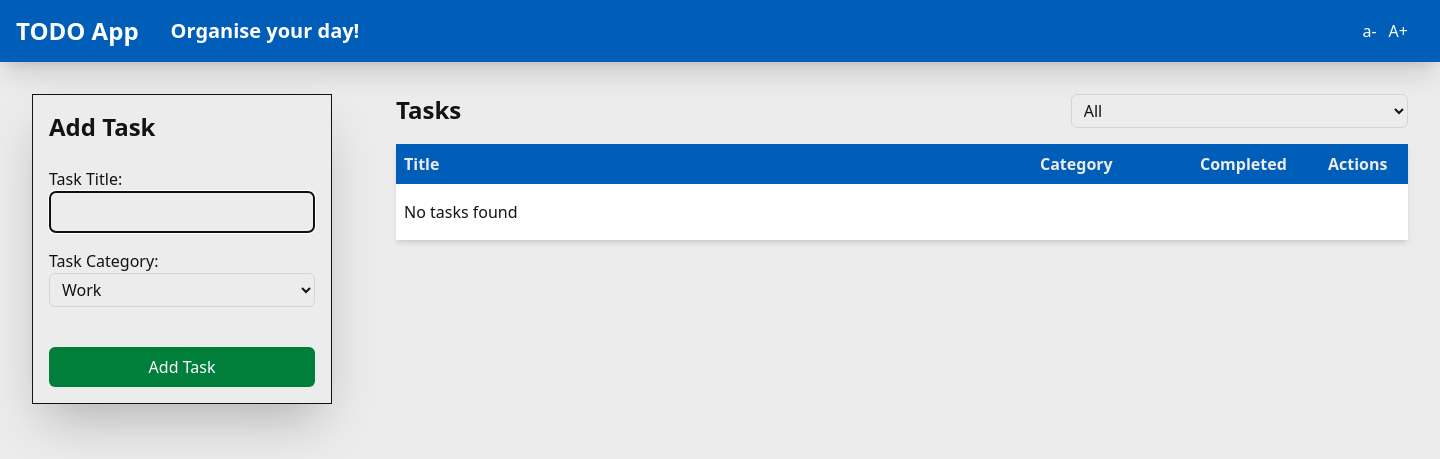
Test: App › adds a task and saves to localStorage
This screenshot has width=1440, height=459.
Type "adds a task" into the field with test id "add-task-component-description" at x=182, y=212, box [49,191,315,233]
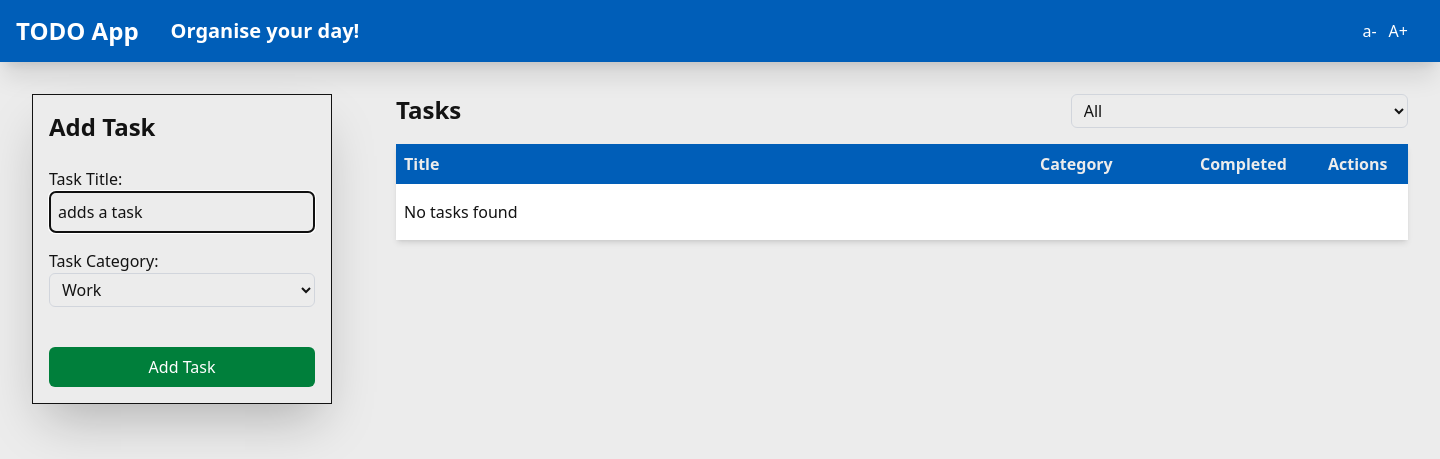
Select "Personal" in the dropdown with test id "add-task-component-category-select" at x=182, y=290, box [49,273,315,307]
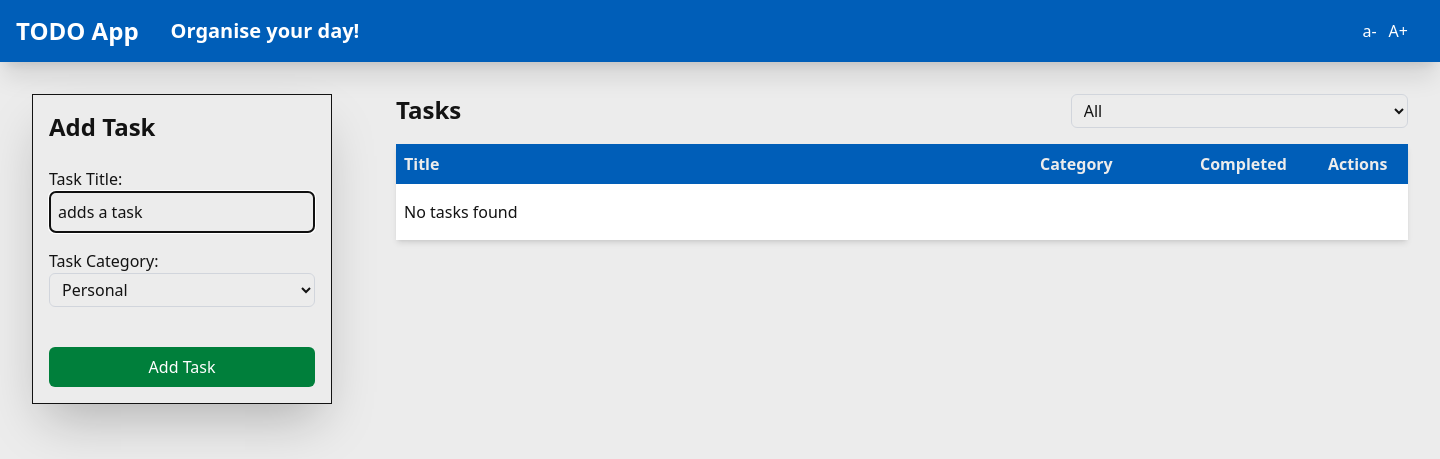
Click the button with test id "add-task-component-submit-button" at x=182, y=367, box [49,347,315,387]
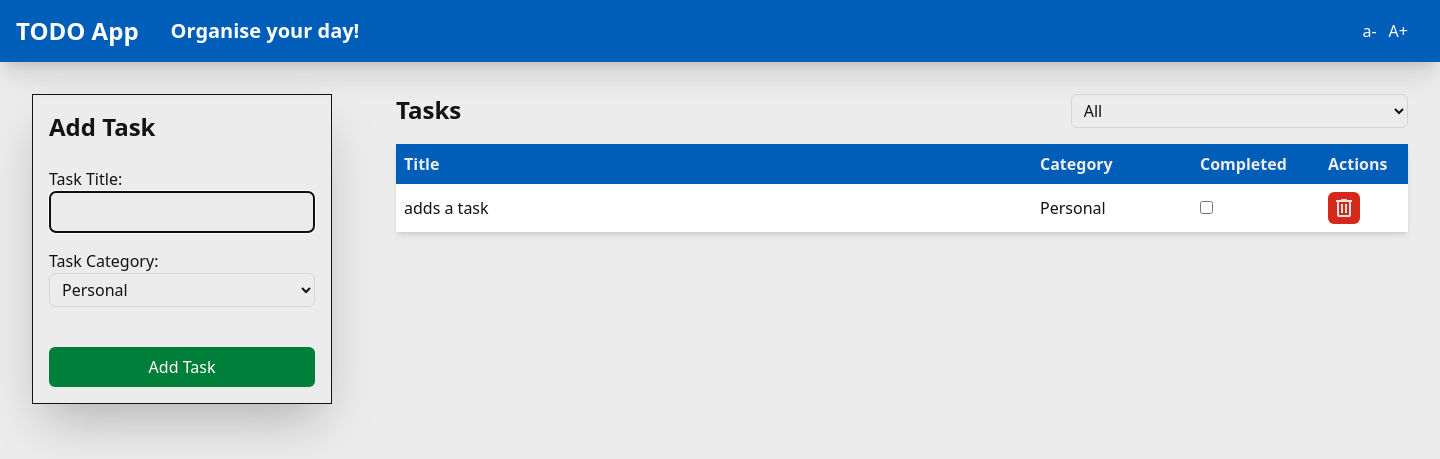
Expected: the table with test id "task-list-body" shows "adds a task", [404,197,489,219]
Expected: the table with test id "task-list-body" shows "Personal", [1040,197,1106,219]
